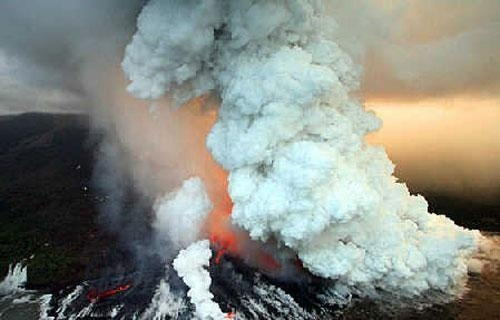fire: (182, 93, 245, 257)
